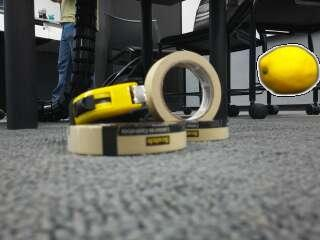lemon: (260, 48, 319, 95)
